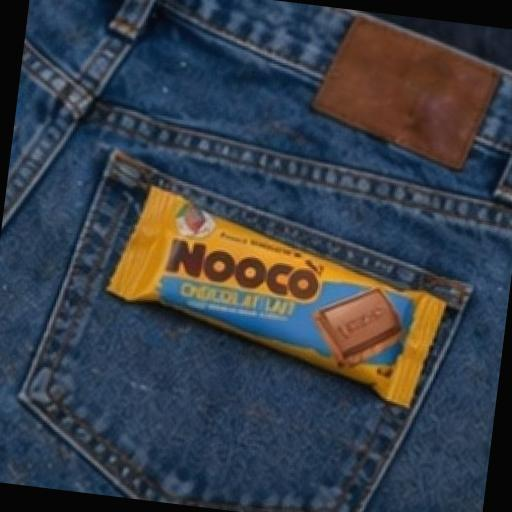nooco: (99, 132, 468, 451)
